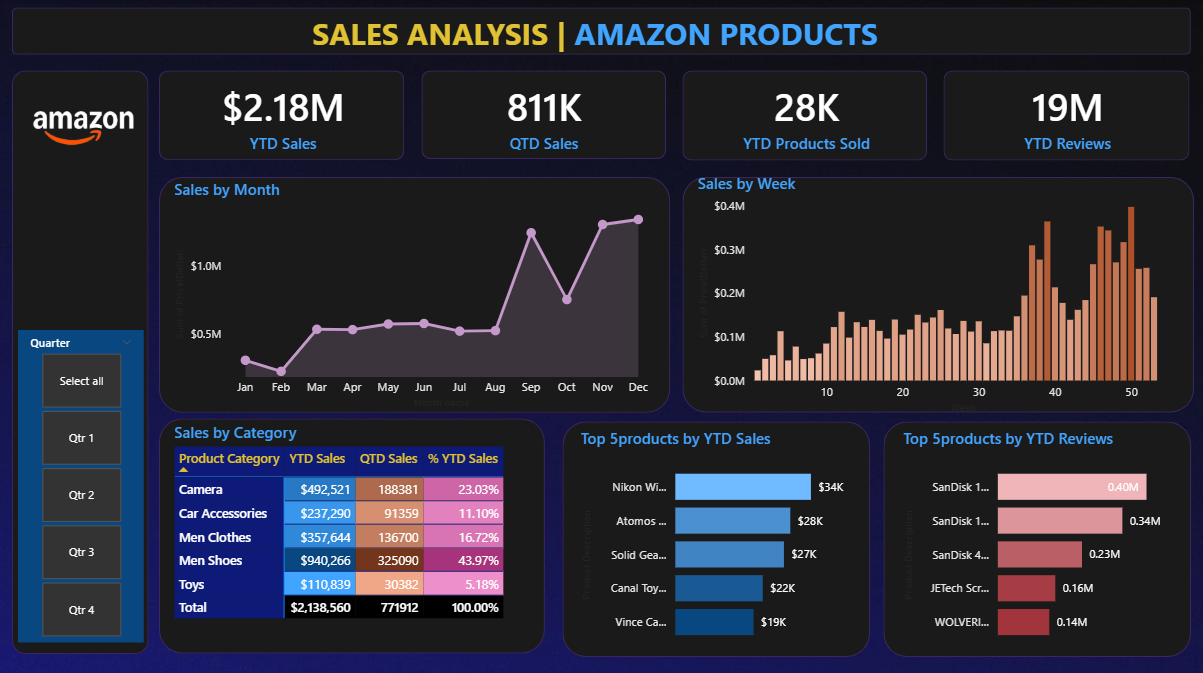

The dashboard page shown, as its layout file describes it:
{"tool":"powerbi","page":{"name":"Amazon Sales Analysis","canvas":[1280,720],"ordinal":0},"visuals":[{"type":"shape","box":[171.2,74.8,260,95],"z":0,"group":"g1"},{"type":"shape","box":[15.4,8,1250,50],"z":0},{"type":"card","fields":{"Values":["Amazon_Data.YTD Sales"]},"box":[182.3,74.8,240.2,95.4],"z":1000,"group":"g1"},{"type":"textbox","box":[328.7,8,625.1,52.5],"z":1000},{"type":"shape","box":[449,74.8,259.3,93.8],"z":2000,"group":"g1"},{"type":"shape","box":[15.4,74.8,144.7,618.7],"z":2000},{"type":"shape","box":[726,74.8,259.3,95.4],"z":3000,"group":"g1"},{"type":"group","id":"g1","title":"Group 1","box":[171.2,74.8,1092.7,95.4],"z":3000},{"type":"shape","box":[1003.1,74.8,260.9,95.4],"z":4000,"group":"g1"},{"type":"shape","box":[171.2,187.7,542,250],"z":4000},{"type":"card","fields":{"Values":["Amazon_Data.QTD Sales"]},"box":[459.6,74.8,240.2,95.4],"z":5000,"group":"g1"},{"type":"areaChart","title":"Sales by Month","fields":{"Category":["Calender Table.Month name"],"Y":["Sum(Amazon_Data.Price(Dollar))"]},"box":[182.4,189.3,516.9,248.1],"z":5000},{"type":"card","fields":{"Values":["Amazon_Data.YTD Products Sold"]},"box":[736.9,74.8,240.2,95.4],"z":6000,"group":"g1"},{"type":"shape","box":[726.4,187.7,542.4,249.7],"z":6000},{"type":"card","fields":{"Values":["Amazon_Data.YTD Reviews"]},"box":[1014.2,74.8,240.2,95.4],"z":7000,"group":"g1"},{"type":"clusteredColumnChart","title":"Sales by Week","fields":{"Y":["Sum(Amazon_Data.Price(Dollar))"],"Category":["Calender Table.Week"]},"box":[737.5,182.9,516.9,259.3],"z":7000},{"type":"shape","box":[171.2,443.5,409.1,249.1],"z":8000},{"type":"pivotTable","title":"Sales by Category","fields":{"Rows":["Amazon_Data.Product Category"],"Values":["Amazon_Data.YTD Sales1","Amazon_Data.QTD Sales","Amazon_Data.YTD Sales"]},"box":[183.3,447.6,392.9,249.1],"z":9000},{"type":"shape","box":[599.1,447,326.1,249.7],"z":10000},{"type":"shape","box":[939.5,447,326.1,249.7],"z":11000},{"type":"clusteredBarChart","title":"Top 5products by YTD Sales","fields":{"Category":["Amazon_Data.Product Description"],"Y":["Amazon_Data.YTD Sales"]},"box":[613.4,453.3,299,240.2],"z":12000},{"type":"clusteredBarChart","title":"Top 5products by YTD Reviews","fields":{"Category":["Amazon_Data.Product Description"],"Y":["Amazon_Data.YTD Reviews"]},"box":[955.4,453.3,299,240.2],"z":13000},{"type":"slicer","fields":{"Values":["Calender Table.Quarter"]},"box":[21.8,349.5,133,331.6],"z":15000},{"type":"image","box":[20.7,74.8,138.4,98.6],"z":15001}]}

Visuals, with their boxes in screenshot pixels (x1, y1, x2, y2), scaled from the page's 1280x720 canvas onto the 1203x673 screenshot:
shape: <box>161,70,405,159</box>
shape: <box>14,7,1189,54</box>
card - Amazon_Data.YTD Sales: <box>171,70,397,159</box>
textbox: <box>309,7,896,57</box>
shape: <box>422,70,666,158</box>
shape: <box>14,70,150,648</box>
shape: <box>682,70,926,159</box>
"Group 1" group: <box>161,70,1188,159</box>
shape: <box>943,70,1188,159</box>
shape: <box>161,175,670,409</box>
card - Amazon_Data.QTD Sales: <box>432,70,658,159</box>
"Sales by Month" areaChart: <box>171,177,657,409</box>
card - Amazon_Data.YTD Products Sold: <box>693,70,918,159</box>
shape: <box>683,175,1192,409</box>
card - Amazon_Data.YTD Reviews: <box>953,70,1179,159</box>
"Sales by Week" clusteredColumnChart: <box>693,171,1179,413</box>
shape: <box>161,415,545,647</box>
"Sales by Category" pivotTable: <box>172,418,542,651</box>
shape: <box>563,418,870,651</box>
shape: <box>883,418,1189,651</box>
"Top 5products by YTD Sales" clusteredBarChart: <box>577,424,858,648</box>
"Top 5products by YTD Reviews" clusteredBarChart: <box>898,424,1179,648</box>
slicer - Calender Table.Quarter: <box>20,327,145,637</box>
image: <box>19,70,150,162</box>
